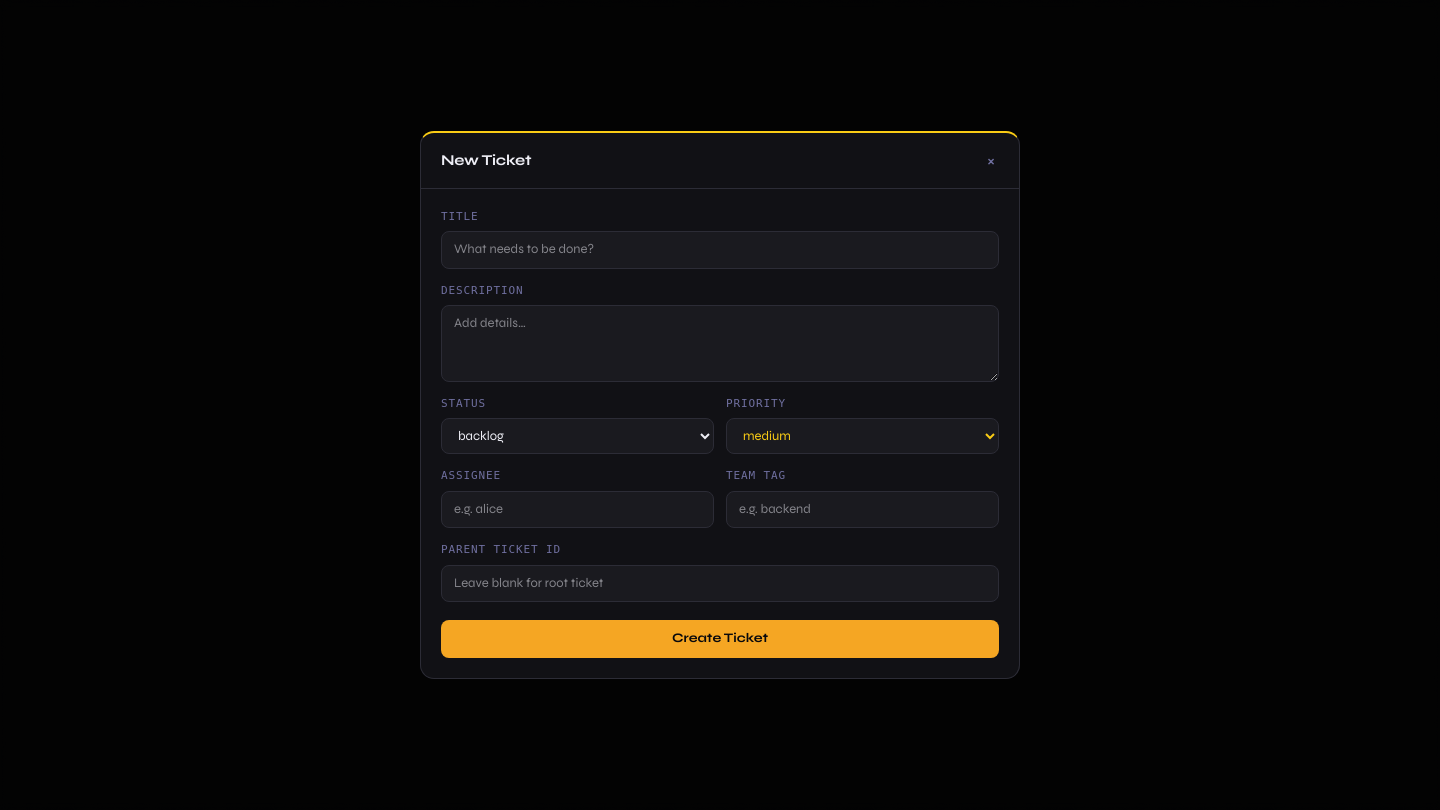
Test: TicketModal — new ticket › shows validation error from API
Type "X" into the field with placeholder "What needs to be done?". click: {"x": 720, "y": 250}
box: [441,231,999,269]
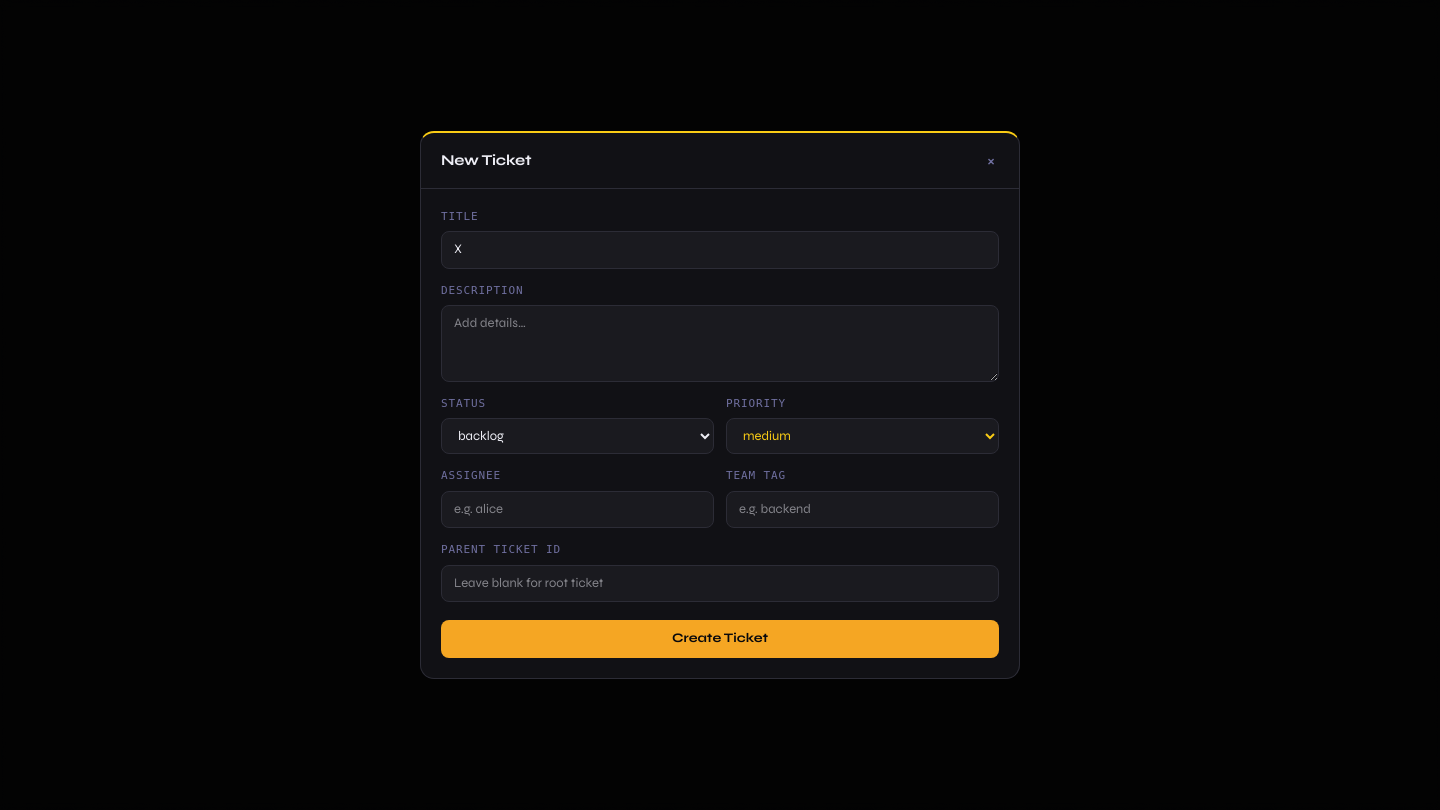
Click the button "Create Ticket". click: {"x": 720, "y": 639}
box: [441,620,999,658]
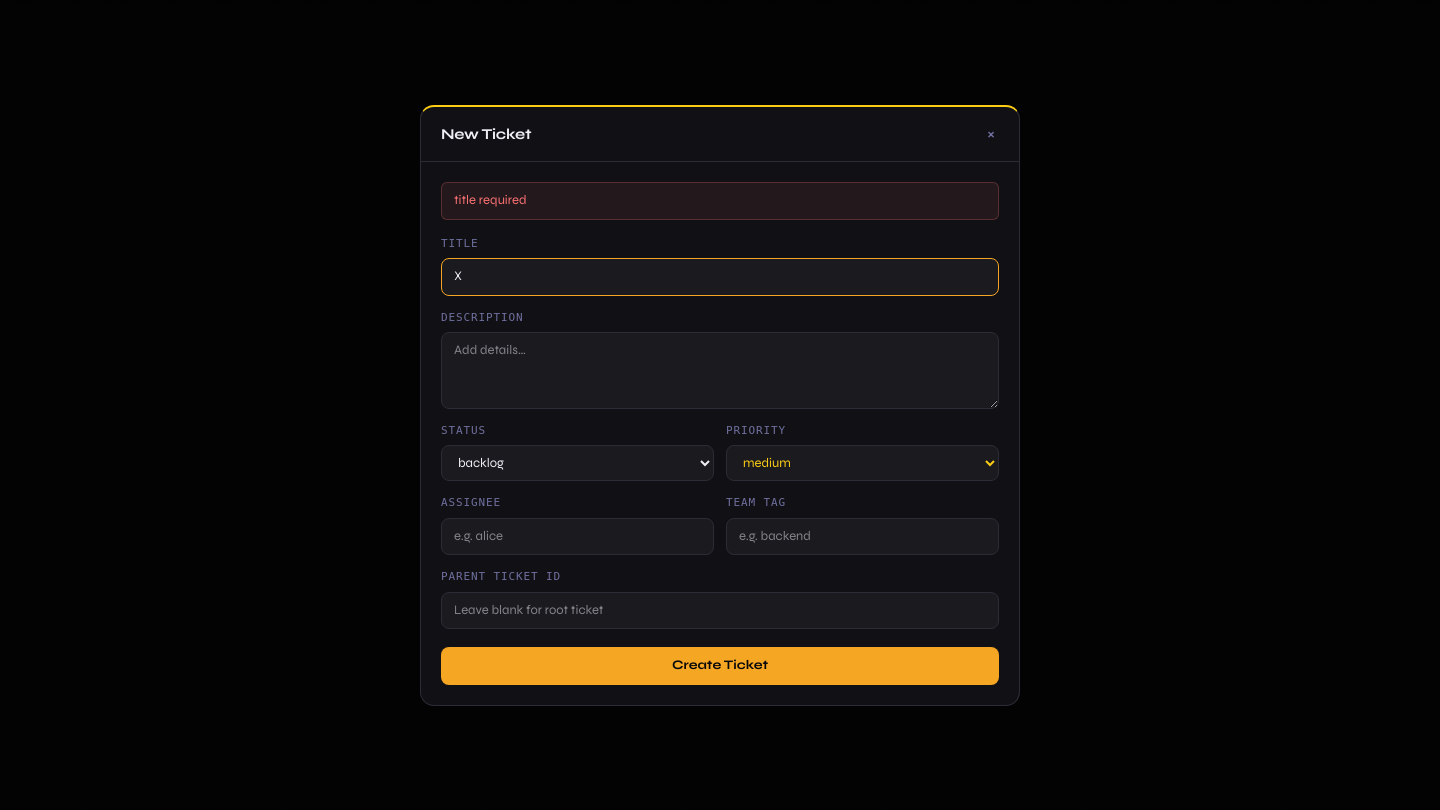
Check: the text "title required" is shown, box [441,182,999,220]
